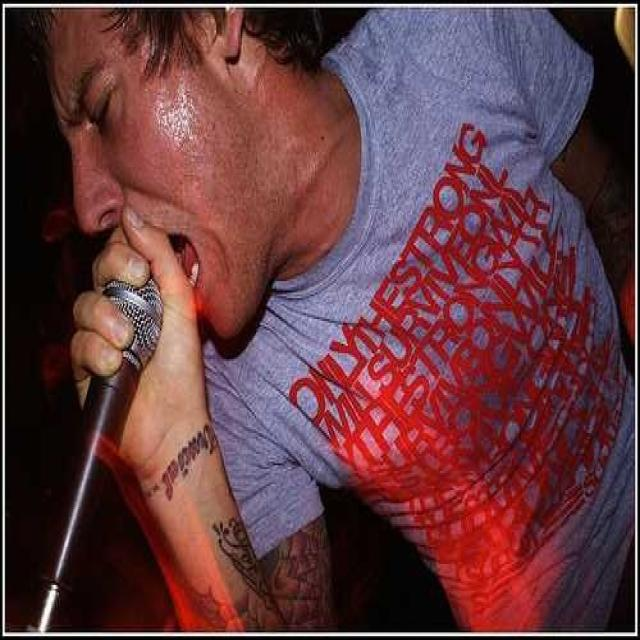microphone: (15, 268, 166, 632)
